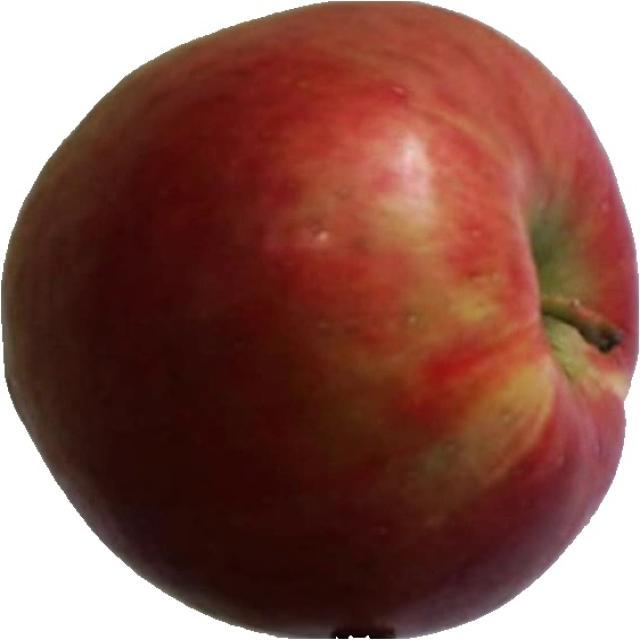apple: (2, 3, 637, 636)
